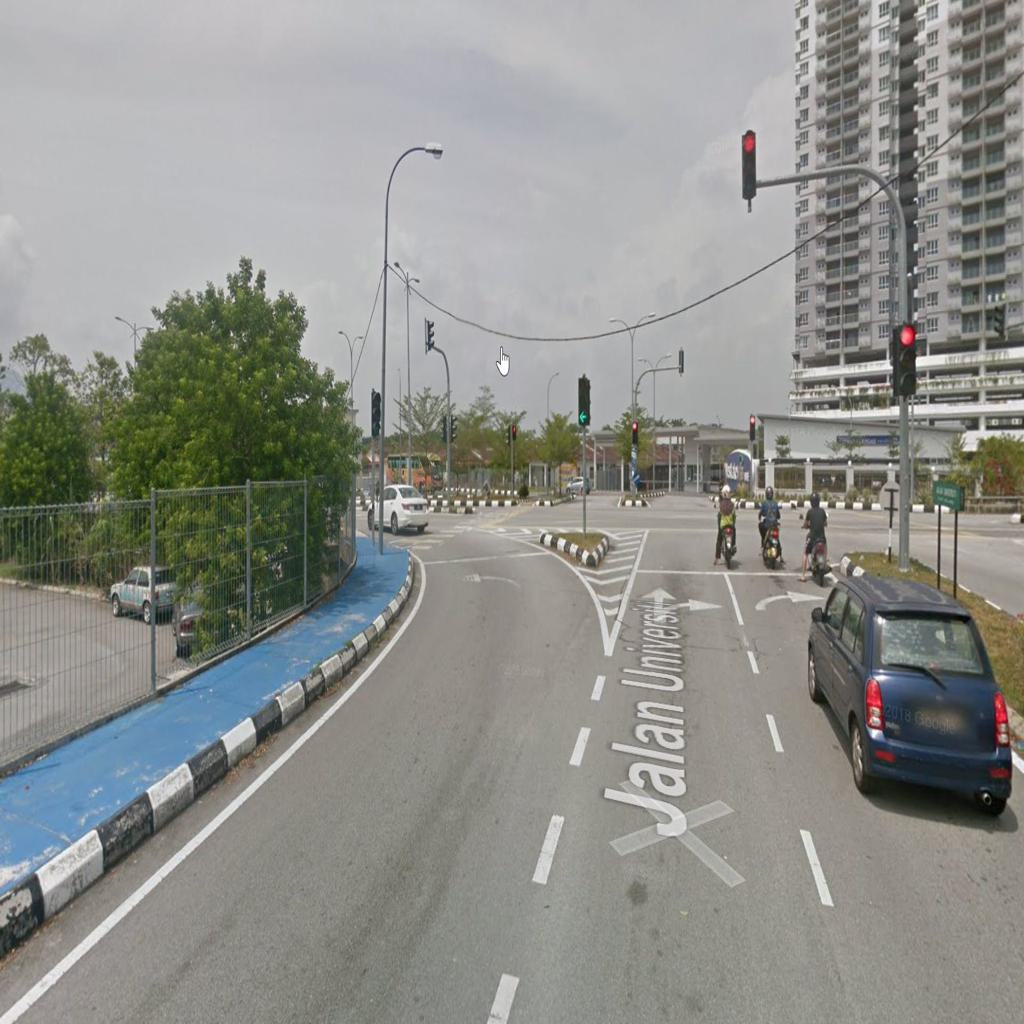Junction: (354, 471, 587, 631)
